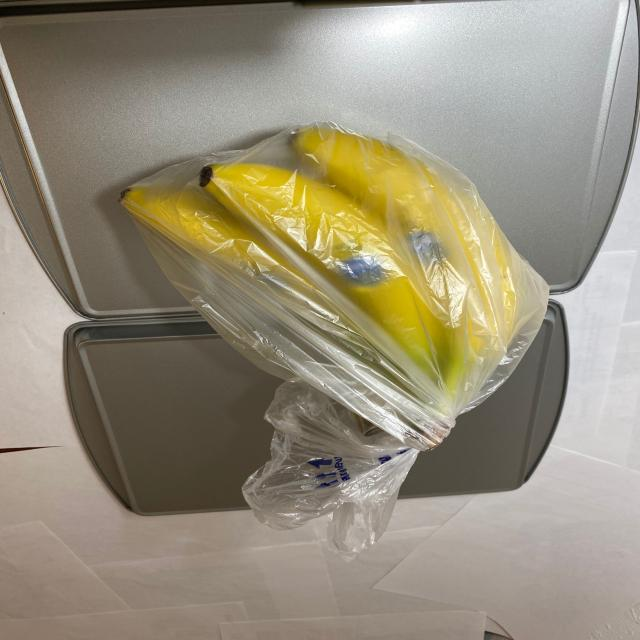banana: (112, 116, 537, 456)
